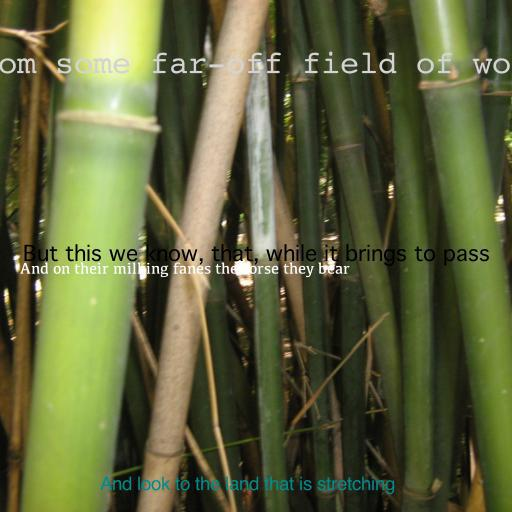Apple Chancery: (99, 476, 395, 495)
Courier: (0, 51, 512, 80)
Geneva: (22, 244, 490, 266)
Kefa: (20, 262, 350, 278)
